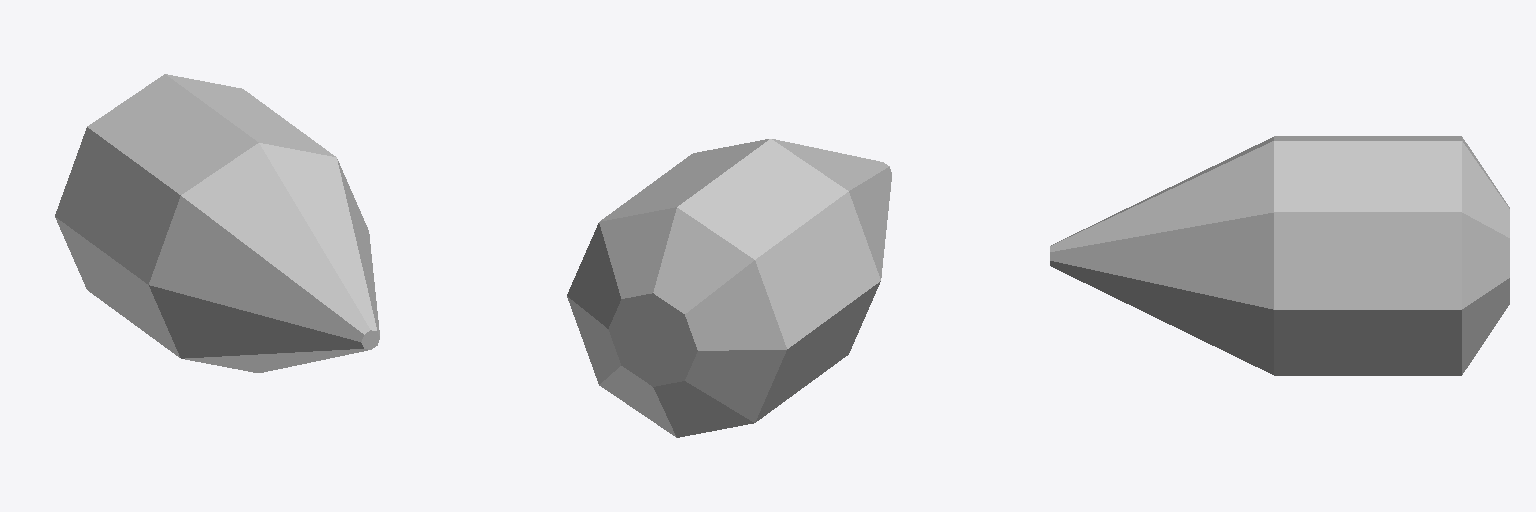
The model's file is m_pylon.obj.
3 renders of one model, left to right at view 1: azimuth 30°, elevation 25°; view 2: azimuth 150°, elevation 25°; view 3: azimuth 270°, elevation 25°, orthographic.
Parts seen in each view (by area): view 1: Cube; view 2: Cube; view 3: Cube.
Boxes of the visible parts, x1,y1,x2,y2 form: Cube: [55, 74, 379, 372]; Cube: [567, 139, 891, 437]; Cube: [1050, 136, 1509, 375].
Bounding box in the file's own units: 1.05 × 1.05 × 1.89.